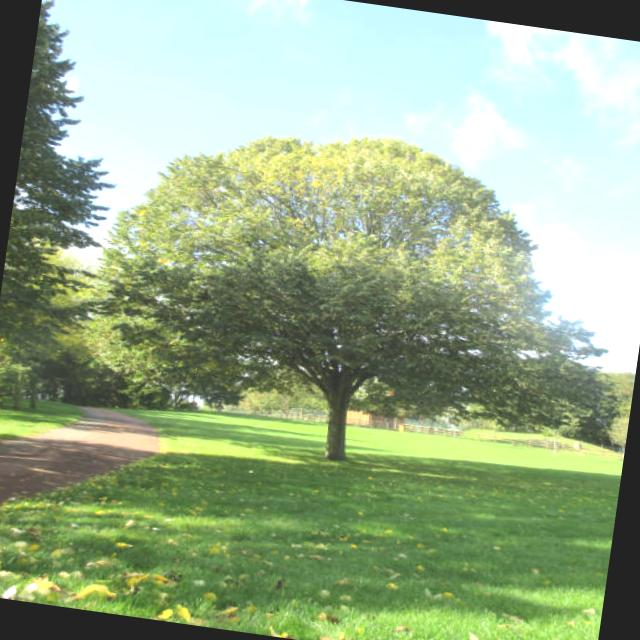foliage: (90, 134, 580, 467)
